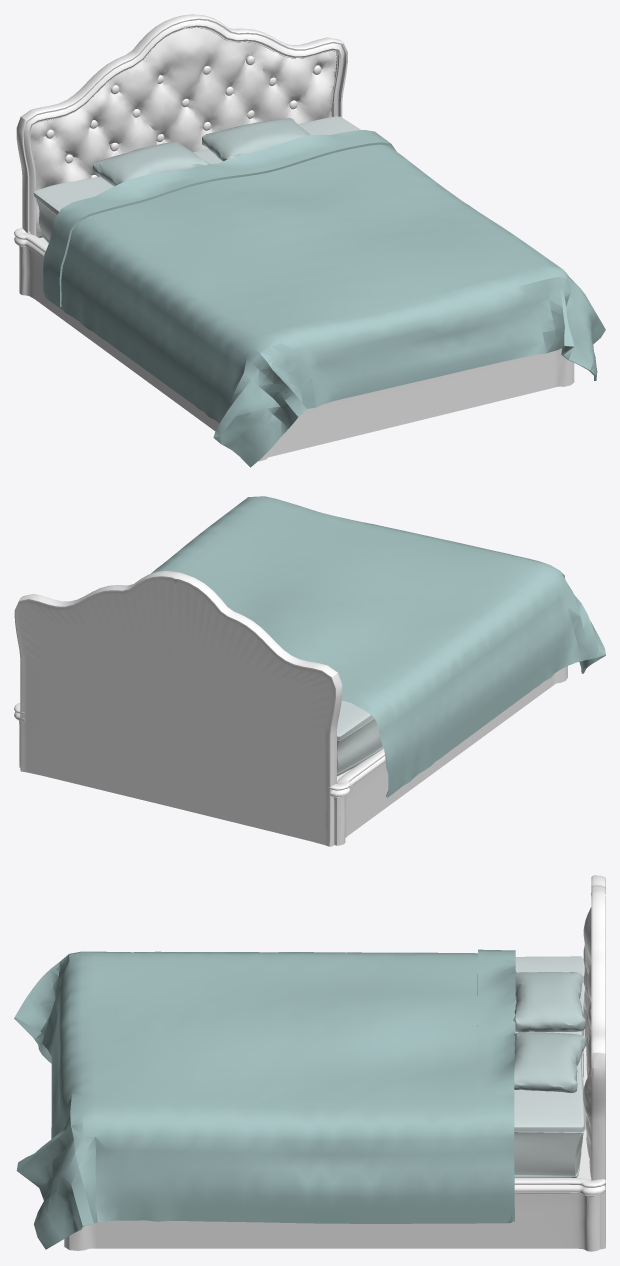
The model's file is sh_blend_swap_cc_0_bed3.glb.
The picture shows the model from 3 angles, top to bottom: view 1: azimuth 30°, elevation 25°; view 2: azimuth 150°, elevation 25°; view 3: azimuth 270°, elevation 25°; orthographic projection. The views are drawn at different scales.
Bounding box in the file's own units: 2.02 × 1.14 × 2.28.
